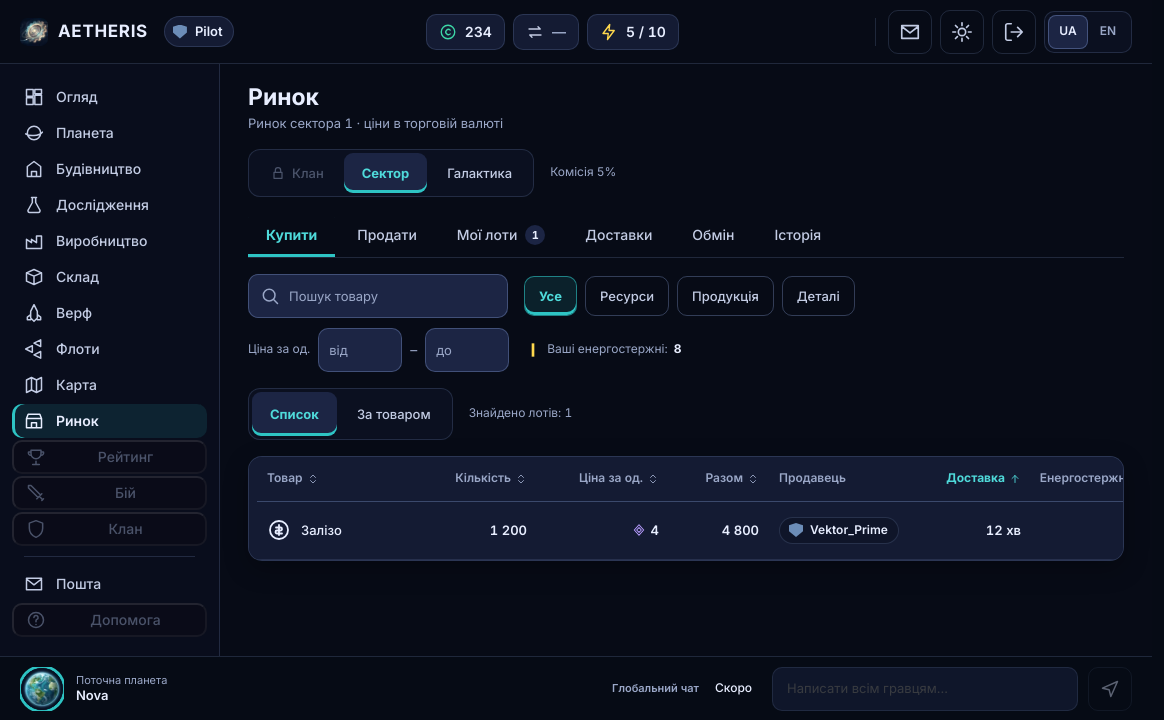
Test: my lots, deliveries, exchange and history › asks twice before it takes a lot off the market
Step 1. Click the tab "Мої лоти 1" → (501, 235), box [439,213,563,257]
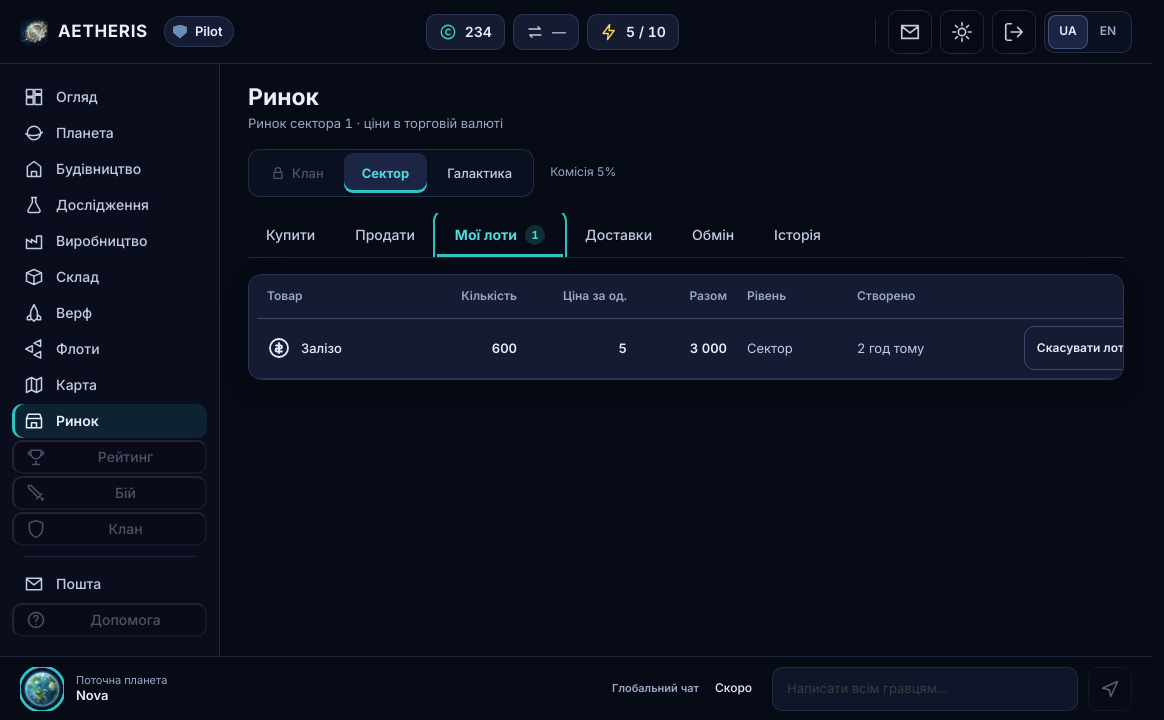
Step 2. Click the button "Скасувати лот" → (1080, 348), box [1024,326,1137,370]
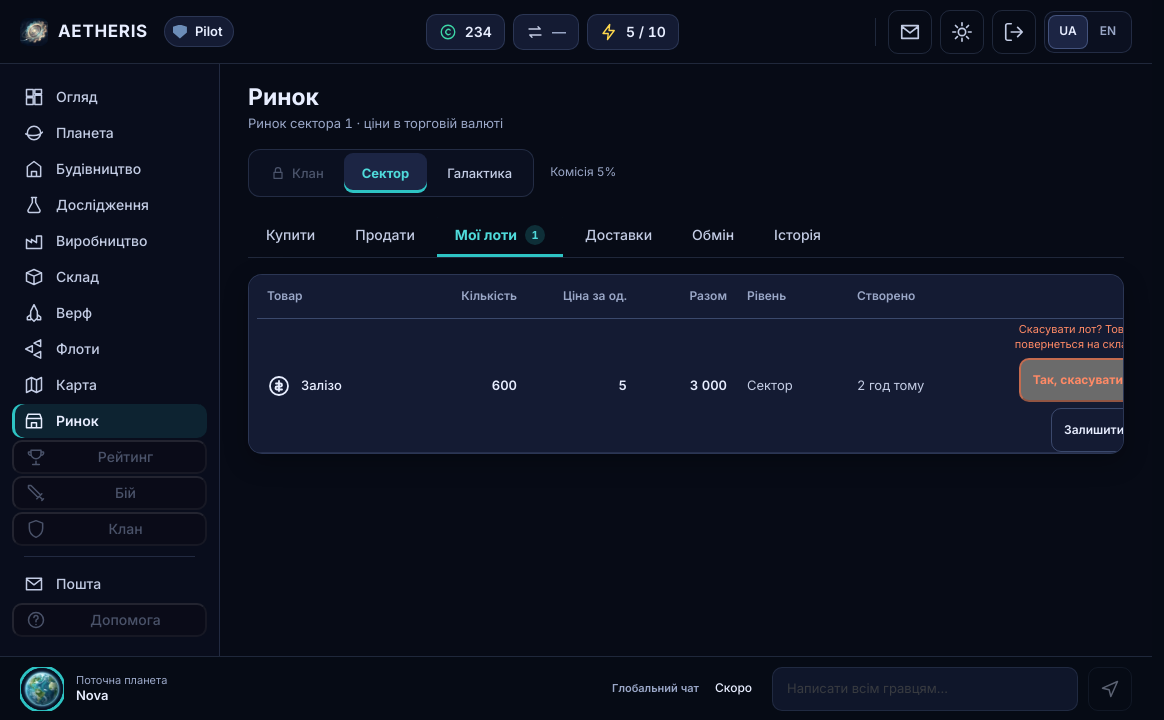
Check: the text "Скасувати лот? Товар повернеться на склад." is shown, box [1015,322,1124,351]
Step 3. Click the button "Так, скасувати" → (1078, 380), box [1019,358,1137,402]
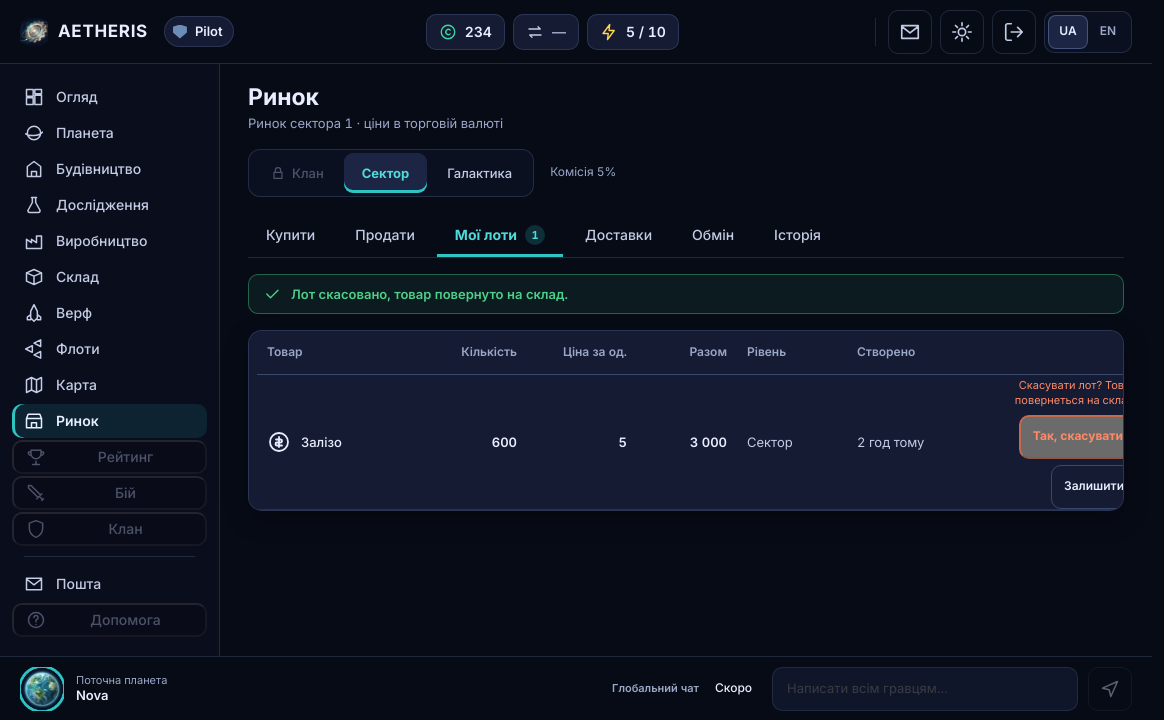
Check: the text "Лот скасовано, товар повернуто на склад." is shown, box [291,286,568,302]
